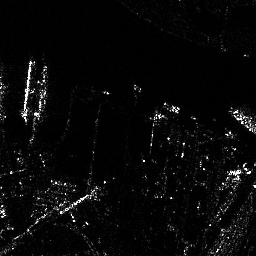ship: (20, 58, 37, 123)
